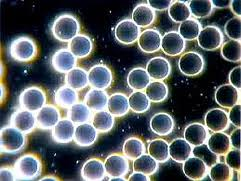Malaria: (50, 13, 81, 39), (21, 83, 45, 113), (178, 52, 203, 77), (113, 21, 139, 45), (214, 82, 238, 107), (12, 37, 35, 63), (1, 126, 24, 152), (150, 113, 174, 137), (87, 64, 110, 89), (52, 50, 76, 73), (169, 138, 192, 162), (198, 27, 223, 49), (82, 158, 105, 181), (161, 30, 183, 54), (146, 57, 170, 79), (184, 122, 207, 144), (185, 157, 207, 180), (34, 106, 58, 127), (55, 86, 77, 108), (75, 124, 97, 146), (128, 69, 151, 90), (168, 2, 192, 22), (134, 155, 159, 174), (138, 30, 160, 51), (122, 136, 145, 156), (69, 37, 92, 56), (108, 96, 128, 116), (93, 111, 113, 131)
